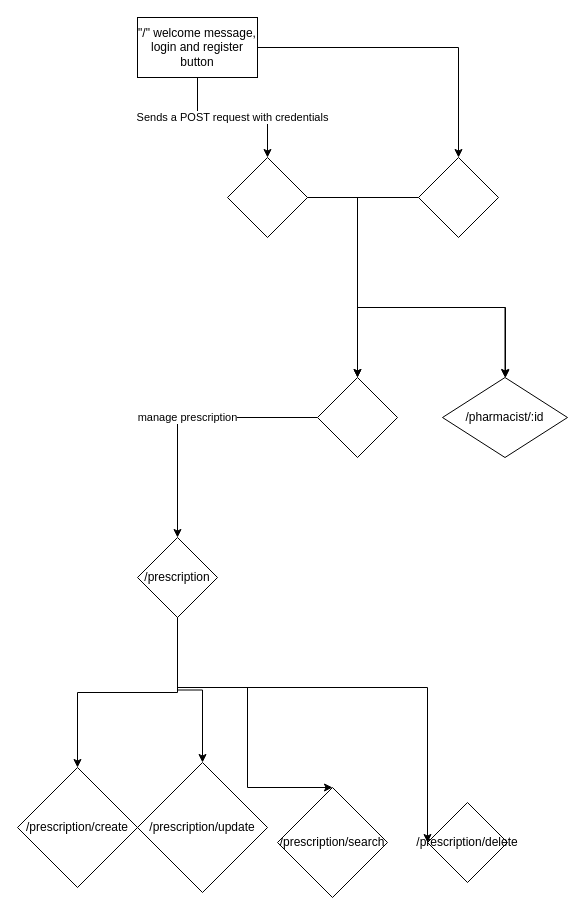
The diagram is 585 pixels wide and 915 high, and some of its shapes have lost their labels. Each missing label, with the centre of its shape:
"/login": (267,197)
/doctor/:id: (357,417)
/register have the option to see: (458,197)
